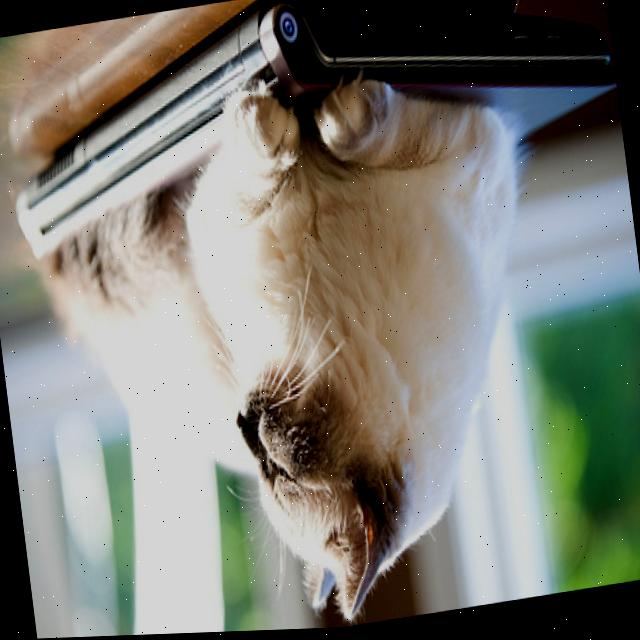Ragdoll: (19, 34, 572, 639)
